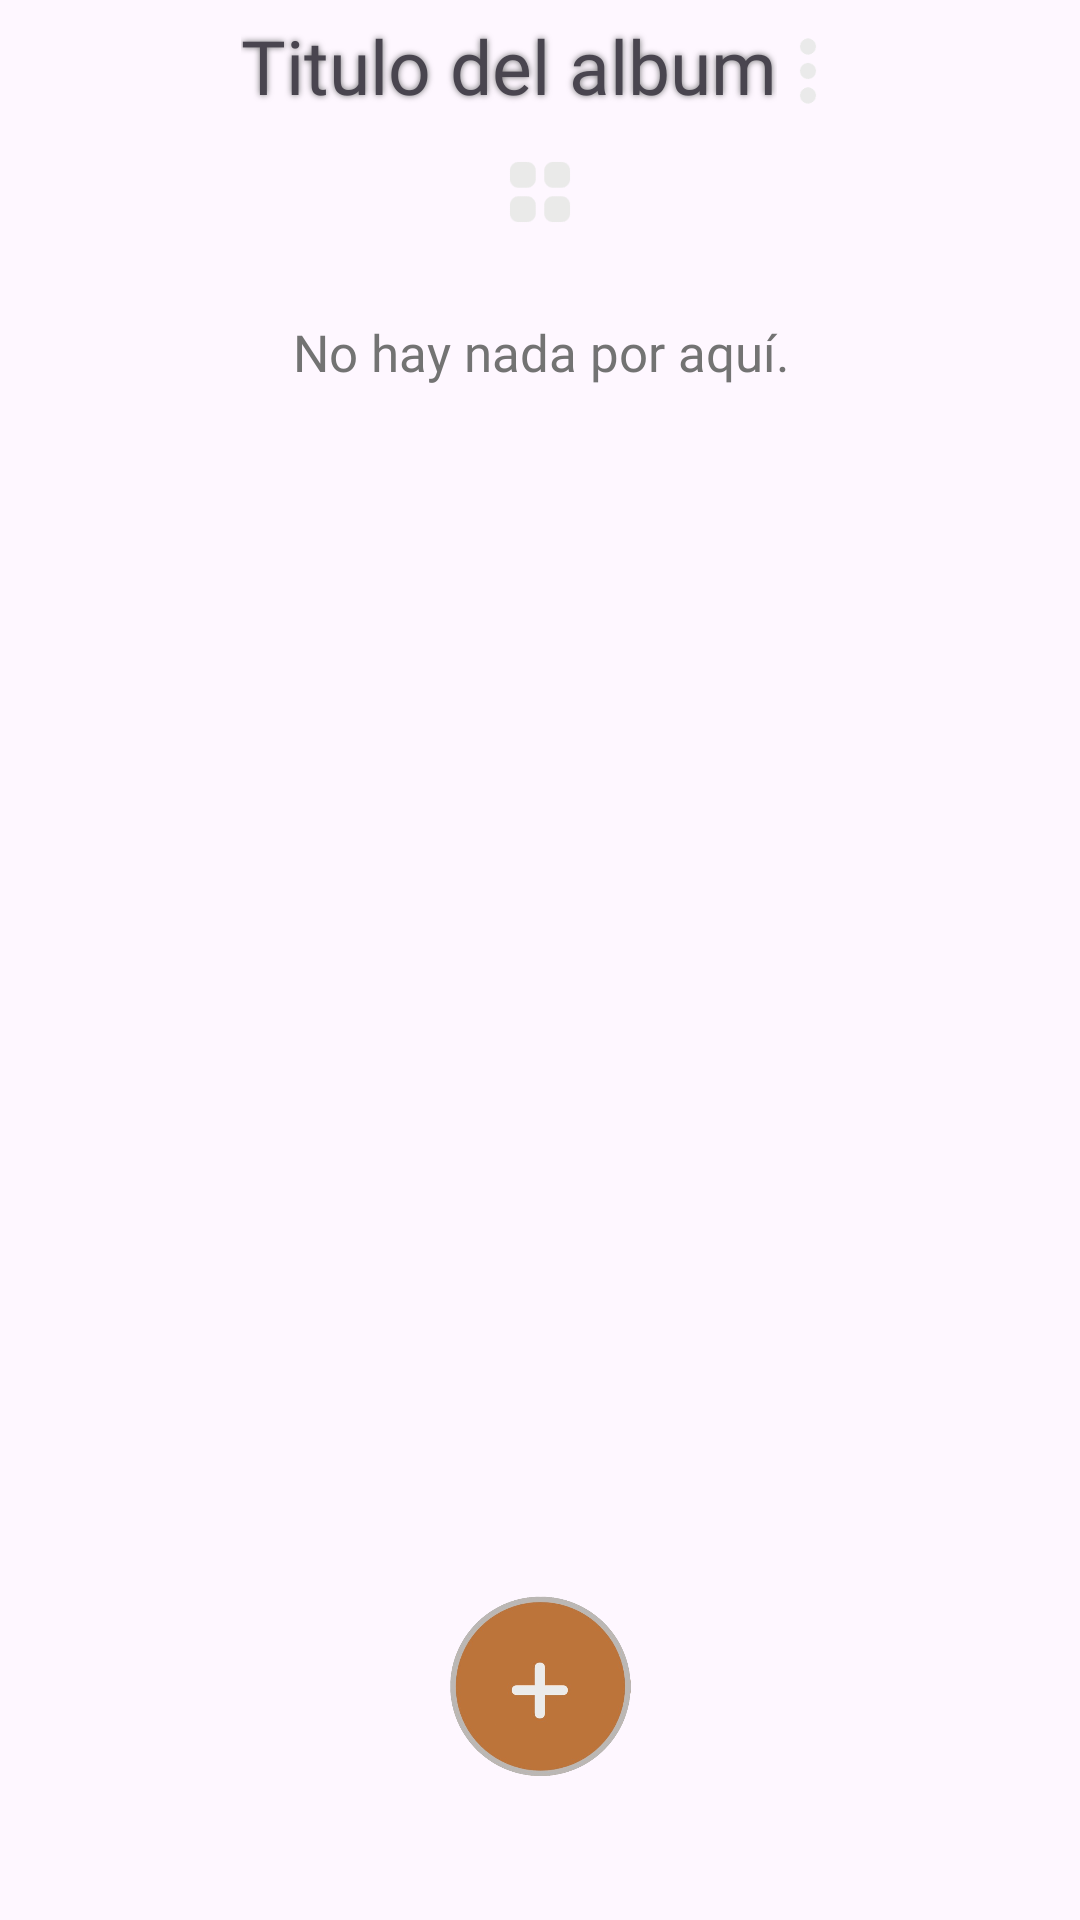

Where icons sit on this 1080w x 1920h app screen, as [x1, y1, x2, y2]:
botonnuevo: [450, 1597, 631, 1776]
